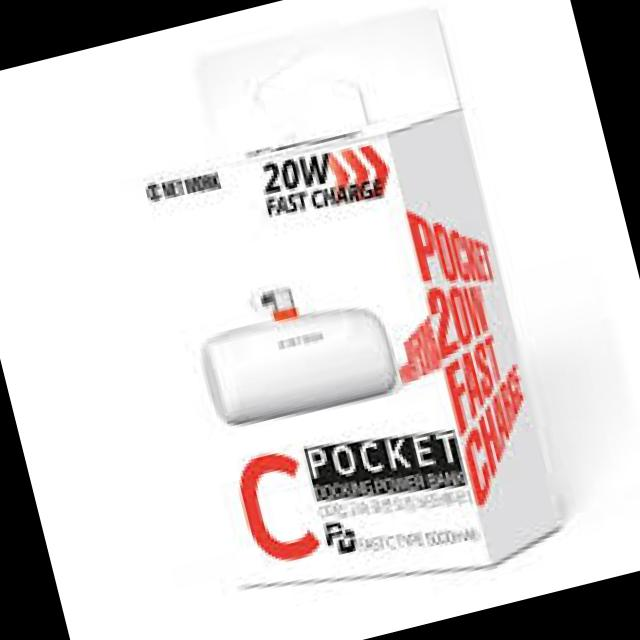power_bank: (186, 256, 404, 441)
